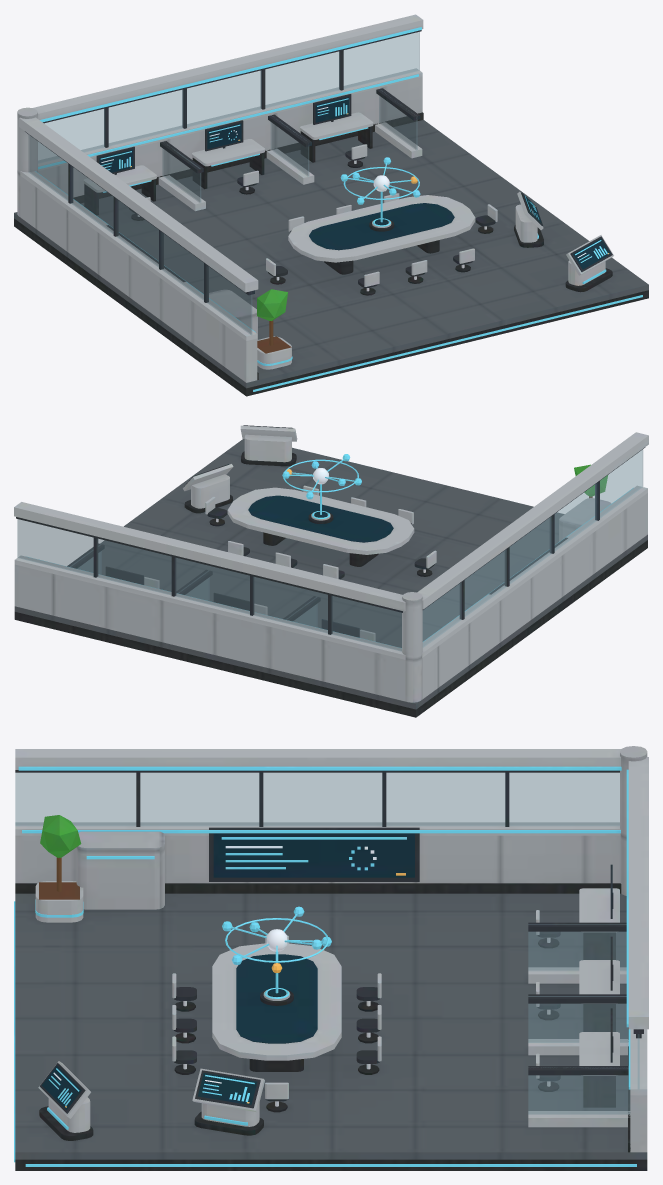
File: enterprise_administration.glb
The picture shows the model from 3 angles, top to bottom: view 1: azimuth 30°, elevation 25°; view 2: azimuth 150°, elevation 25°; view 3: azimuth 270°, elevation 25°; orthographic projection. The views are drawn at different scales.
Visible parts, largest first — view 1: te_enterprise_administration, move_sensor; view 2: te_enterprise_administration, move_sensor; view 3: te_enterprise_administration, move_sensor.
Part boxes in pixels (x1=…): te_enterprise_administration: x1=14, y1=14, x2=648, y2=396; move_sensor: x1=340, y1=157, x2=420, y2=204; te_enterprise_administration: x1=14, y1=425, x2=648, y2=717; move_sensor: x1=282, y1=454, x2=361, y2=499; te_enterprise_administration: x1=14, y1=746, x2=648, y2=1170; move_sensor: x1=222, y1=906, x2=331, y2=972.
Bounding box in the file's own units: 1.87 × 0.512 × 1.87.
Materials: 2 (1 with a texture image).
